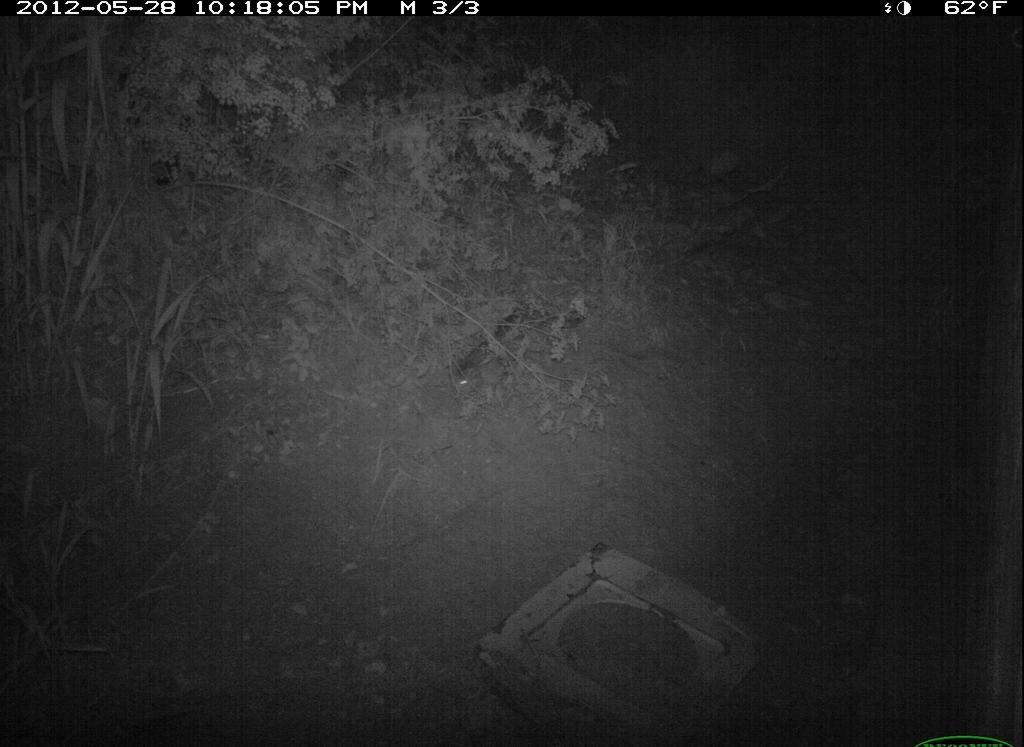cat: (446, 299, 589, 405)
